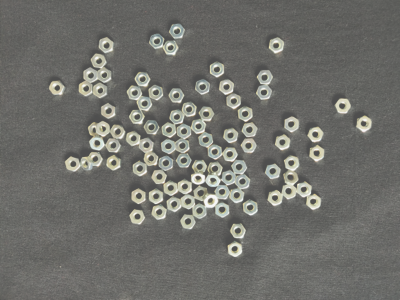nut: (356, 116, 373, 133), (335, 98, 352, 114), (256, 85, 273, 101), (269, 37, 285, 54), (99, 37, 115, 54), (308, 127, 324, 143), (297, 182, 313, 198), (265, 164, 281, 180), (275, 135, 291, 151), (242, 122, 258, 138), (223, 128, 239, 144), (152, 169, 168, 185), (137, 96, 153, 112), (169, 24, 185, 40), (149, 34, 165, 50), (65, 156, 81, 172), (268, 190, 283, 207), (243, 199, 258, 216), (230, 224, 247, 239), (228, 241, 243, 258), (227, 93, 242, 110), (241, 139, 258, 154), (205, 173, 222, 188), (182, 101, 197, 118), (152, 204, 167, 221), (149, 84, 164, 101), (49, 81, 66, 96), (311, 145, 325, 163), (307, 194, 322, 210), (284, 170, 299, 186), (285, 155, 300, 171), (257, 70, 273, 85), (210, 62, 225, 78), (219, 79, 234, 95), (238, 106, 253, 122), (232, 160, 248, 175), (236, 174, 251, 190), (230, 188, 245, 204), (195, 79, 210, 95), (222, 170, 237, 186), (215, 202, 230, 218), (199, 107, 215, 122), (191, 119, 207, 134), (208, 144, 223, 160), (199, 132, 214, 148), (181, 214, 196, 230), (181, 194, 196, 210), (176, 138, 191, 154), (177, 124, 192, 140), (169, 88, 185, 103), (167, 197, 182, 213), (162, 122, 177, 138), (161, 138, 176, 154), (149, 189, 164, 205), (130, 209, 145, 225), (139, 137, 154, 153), (144, 120, 160, 135), (163, 41, 179, 56), (127, 86, 143, 101), (130, 110, 146, 125), (107, 155, 122, 171), (90, 136, 106, 151), (93, 83, 108, 99), (91, 54, 107, 69), (285, 116, 299, 133), (193, 203, 207, 220), (132, 188, 146, 205), (102, 103, 116, 120), (282, 185, 297, 200), (215, 185, 230, 200), (204, 193, 219, 208), (170, 110, 185, 125), (159, 156, 174, 171), (144, 151, 159, 166), (111, 124, 126, 139), (208, 162, 224, 176), (194, 186, 208, 202), (178, 179, 192, 195), (176, 154, 192, 168), (133, 161, 147, 177), (135, 73, 151, 87), (127, 131, 141, 147), (106, 139, 122, 153), (88, 123, 104, 137), (98, 67, 112, 83), (84, 67, 98, 83), (79, 81, 93, 97), (223, 148, 238, 162), (191, 171, 206, 185), (164, 181, 178, 196), (89, 153, 104, 167), (192, 160, 208, 173), (97, 121, 110, 137), (81, 157, 93, 171)
